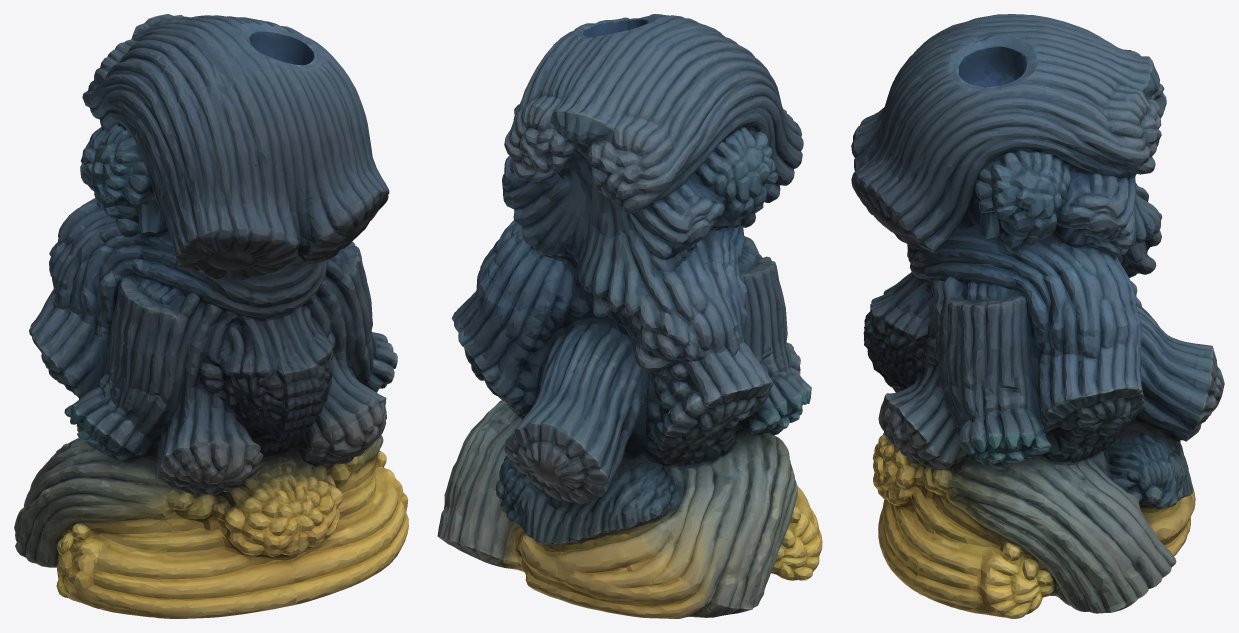
The model's file is 05_4_js_blob_candle1-opt-v18.glb.
The picture shows the model from 3 angles, left to right: view 1: azimuth 30°, elevation 25°; view 2: azimuth 150°, elevation 25°; view 3: azimuth 270°, elevation 25°; orthographic projection. The views are drawn at different scales.
Visible parts, largest first — view 1: tripo_node_302fbb40-8182-466e-ab73-a4d370e7cff3; view 2: tripo_node_302fbb40-8182-466e-ab73-a4d370e7cff3; view 3: tripo_node_302fbb40-8182-466e-ab73-a4d370e7cff3.
Boxes of the visible parts, x1,y1,x2,y2 form: tripo_node_302fbb40-8182-466e-ab73-a4d370e7cff3: (14,14,408,618); tripo_node_302fbb40-8182-466e-ab73-a4d370e7cff3: (437,14,822,618); tripo_node_302fbb40-8182-466e-ab73-a4d370e7cff3: (851,14,1224,618).
Size of the model in its own units: 0.1355 by 0.2 by 0.133.
1 material, 1 textured.
